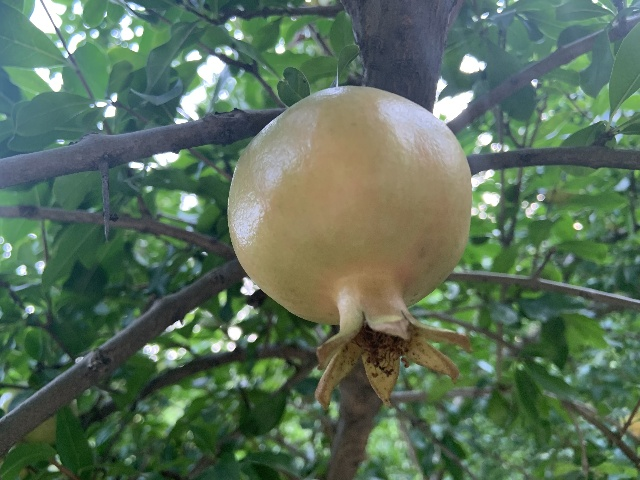mid-growth: (227, 85, 476, 414)
